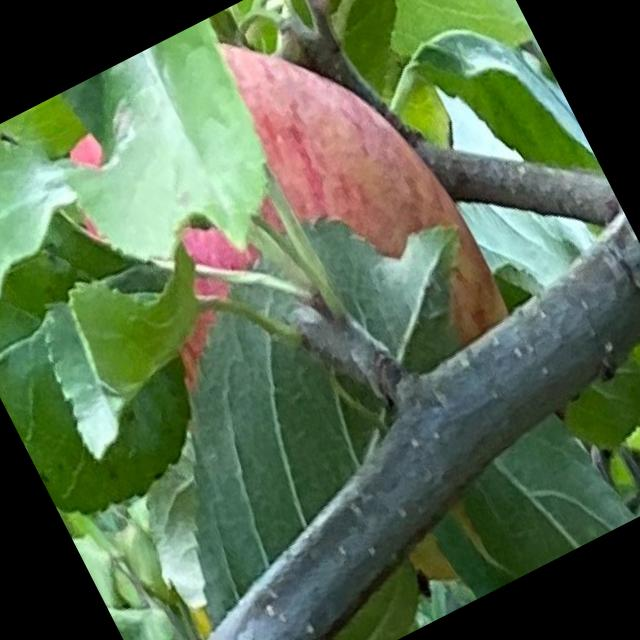Apples: (37, 0, 514, 471)
